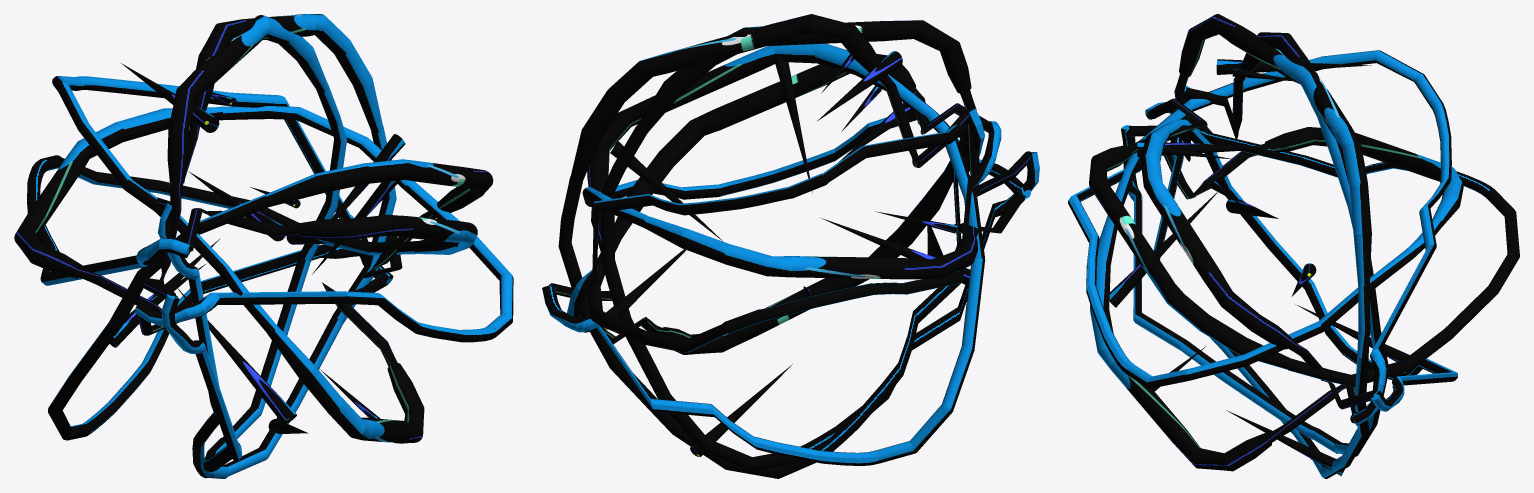
File: Ball_Anim.fbx
The picture shows the model from 3 angles, left to right: view 1: azimuth 30°, elevation 25°; view 2: azimuth 150°, elevation 25°; view 3: azimuth 270°, elevation 25°; orthographic projection. The views are drawn at different scales.
Visible parts, largest first — view 1: Cone; view 2: Cone; view 3: Cone.
Boxes of the visible parts, box(x1,y1,x2,y2) form: Cone: box(14, 14, 513, 478); Cone: box(542, 14, 1039, 478); Cone: box(1068, 14, 1519, 478).
Bounding box in the file's own units: 1845 × 1949 × 1904.
